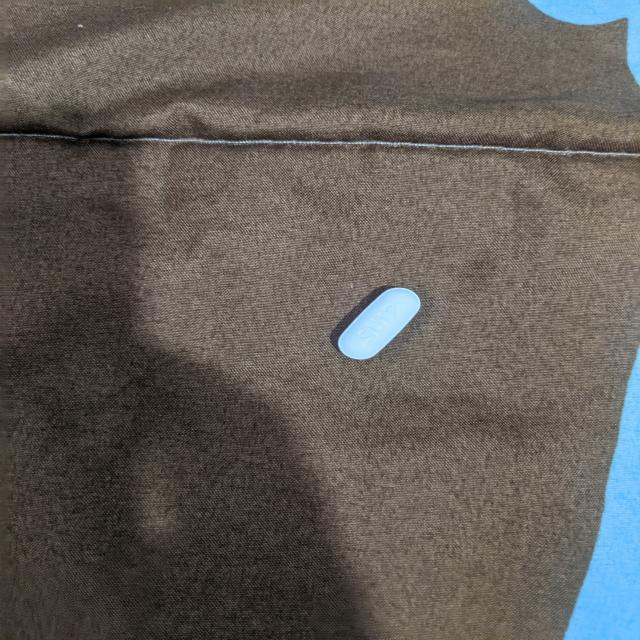non-organic waste: (337, 286, 422, 361)
